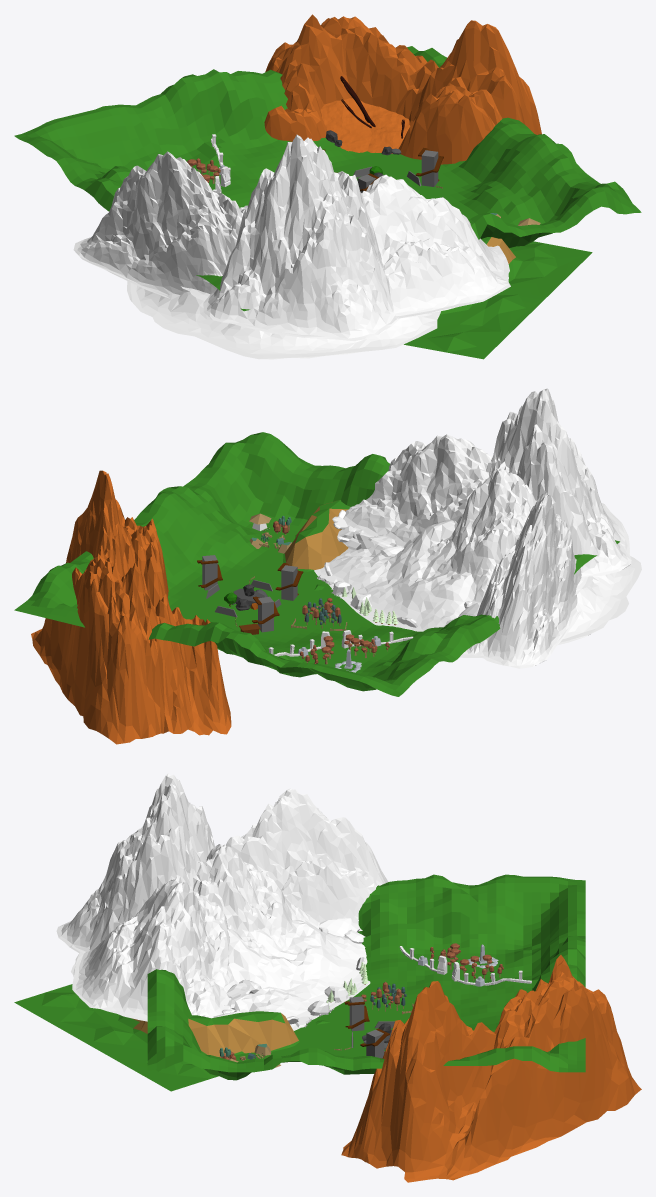
Rendered from _Mapv3.fbx.
3 views of the same model, one above another, from view 1: azimuth 30°, elevation 25°; view 2: azimuth 150°, elevation 25°; view 3: azimuth 270°, elevation 25° (orthographic). The views are drawn at different scales.
Parts seen in each view (by area): view 1: Terrain, Ice_Mountain__3_, Mounting_2, Ice_Mountain__4_, Ice_Mountain__2_, Ice_Mountain, Environment_1, Cube; view 2: Terrain, Mounting_2, Ice_Mountain, Ice_Mountain__4_, Ice_Mountain__3_, Ice_Mountain__2_, Ice_Mountain__1_, Cube_1; view 3: Terrain, Mounting_2, Ice_Mountain__2_, Ice_Mountain__4_, Ice_Mountain__3_, Ice_Mountain, Ice_Mountain__1_.
Boxes of the visible parts, x1=… form: Terrain: x1=14, y1=46, x2=641, y2=359; Ice_Mountain__3_: x1=203, y1=134, x2=399, y2=340; Mounting_2: x1=264, y1=14, x2=541, y2=164; Ice_Mountain__4_: x1=73, y1=151, x2=242, y2=299; Ice_Mountain__2_: x1=362, y1=174, x2=510, y2=318; Ice_Mountain: x1=127, y1=281, x2=440, y2=359; Environment_1: x1=320, y1=98, x2=410, y2=153; Cube: x1=421, y1=150, x2=438, y2=186; Terrain: x1=14, y1=432, x2=619, y2=696; Mounting_2: x1=31, y1=470, x2=231, y2=744; Ice_Mountain: x1=314, y1=520, x2=641, y2=657; Ice_Mountain__4_: x1=467, y1=492, x2=581, y2=668; Ice_Mountain__3_: x1=486, y1=388, x2=631, y2=576; Ice_Mountain__2_: x1=343, y1=434, x2=491, y2=547; Ice_Mountain__1_: x1=427, y1=468, x2=592, y2=604; Cube_1: x1=281, y1=565, x2=297, y2=600; Terrain: x1=14, y1=874, x2=585, y2=1091; Mounting_2: x1=341, y1=955, x2=641, y2=1182; Ice_Mountain__2_: x1=72, y1=877, x2=238, y2=1021; Ice_Mountain__4_: x1=226, y1=788, x2=388, y2=931; Ice_Mountain__3_: x1=56, y1=773, x2=215, y2=953; Ice_Mountain: x1=71, y1=919, x2=370, y2=1030; Ice_Mountain__1_: x1=198, y1=844, x2=321, y2=953.
Size of the model in its own units: 23454 by 10765 by 26870.
